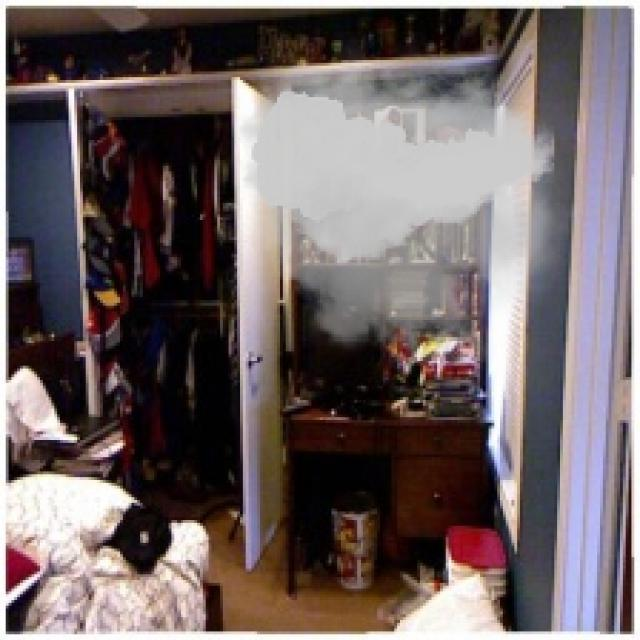Smoke: (228, 31, 578, 386)
